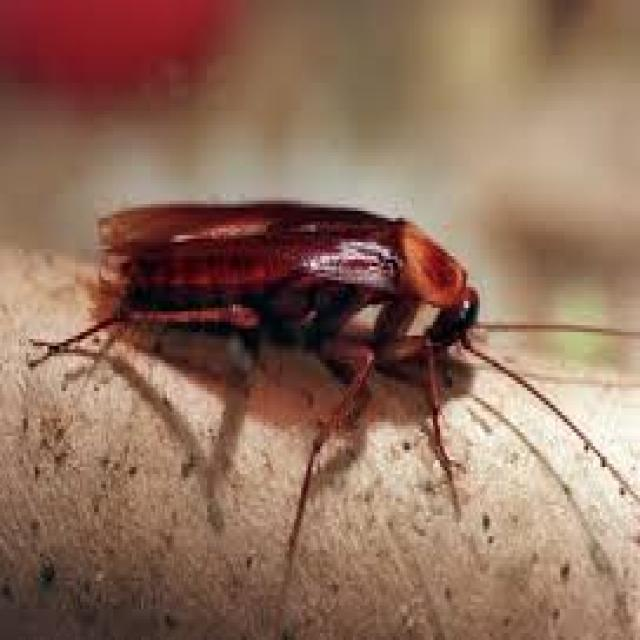Cockroach: (21, 171, 640, 640)
